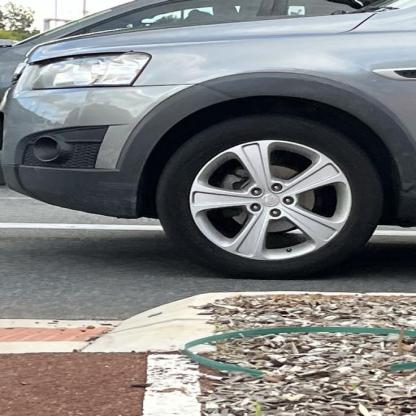Tire: (154, 114, 385, 279)
